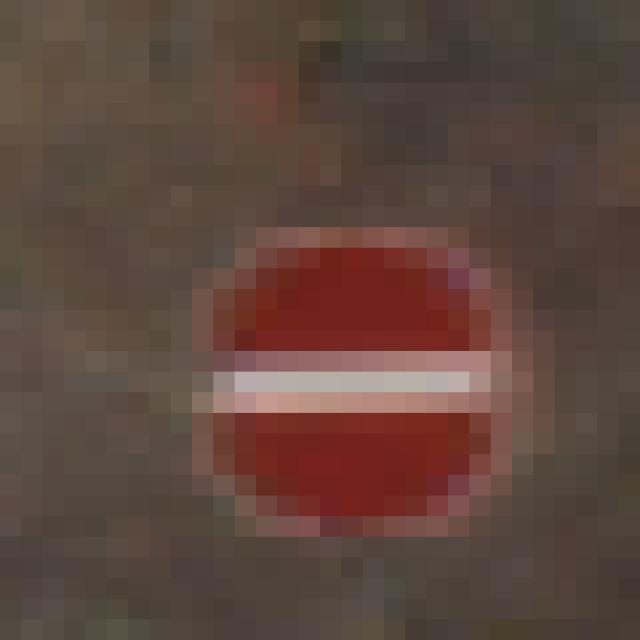No Entry: (129, 125, 534, 538)
